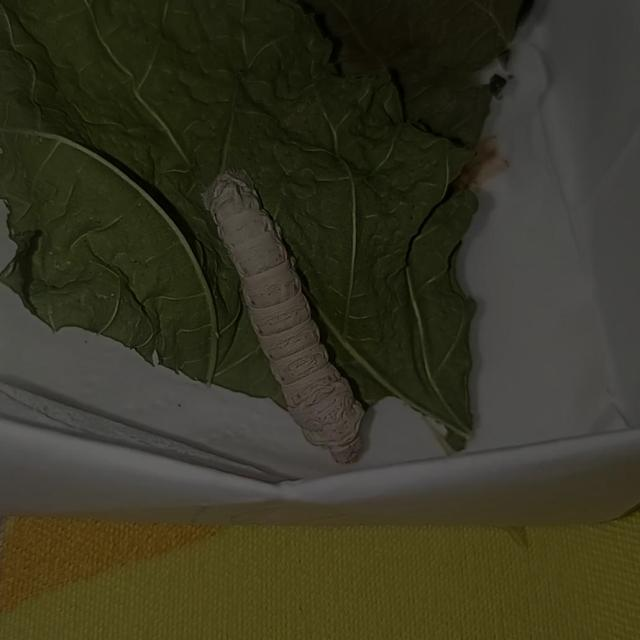Healthy: (168, 156, 433, 498)
